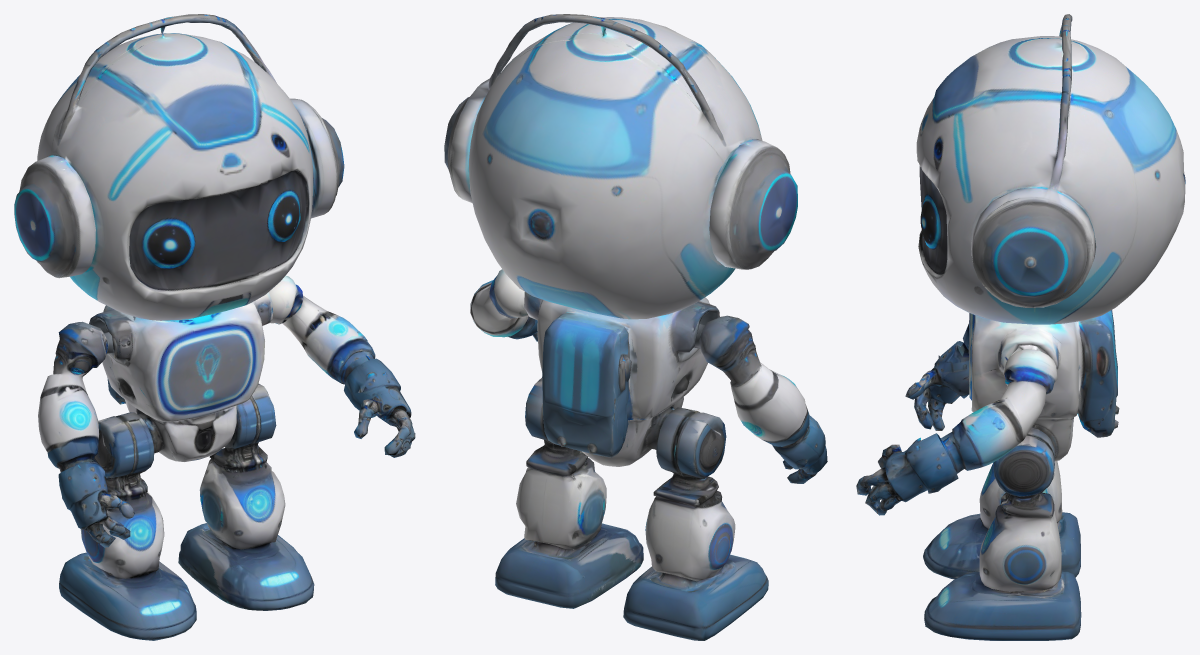
Rendered from baby_agent_0614192443_texture.glb.
3 renders of one model, left to right at view 1: azimuth 30°, elevation 25°; view 2: azimuth 150°, elevation 25°; view 3: azimuth 270°, elevation 25°, orthographic. The views are drawn at different scales.
Size of the model in its own units: 1.2 by 1.99 by 1.06.
1 material, 1 textured.
